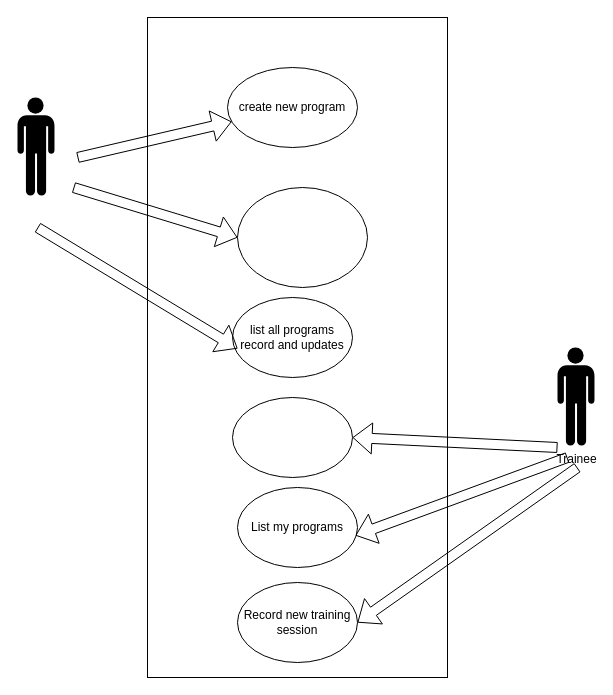
Some shapes in this 613 by 695 pixel diagram are drawn without their labels. Here are the shapes that lost their labels. From the top down, the centre of each, then its label:
point (35, 146): Trainer
point (302, 237): list edit and remove clients programs
point (292, 437): show profile
